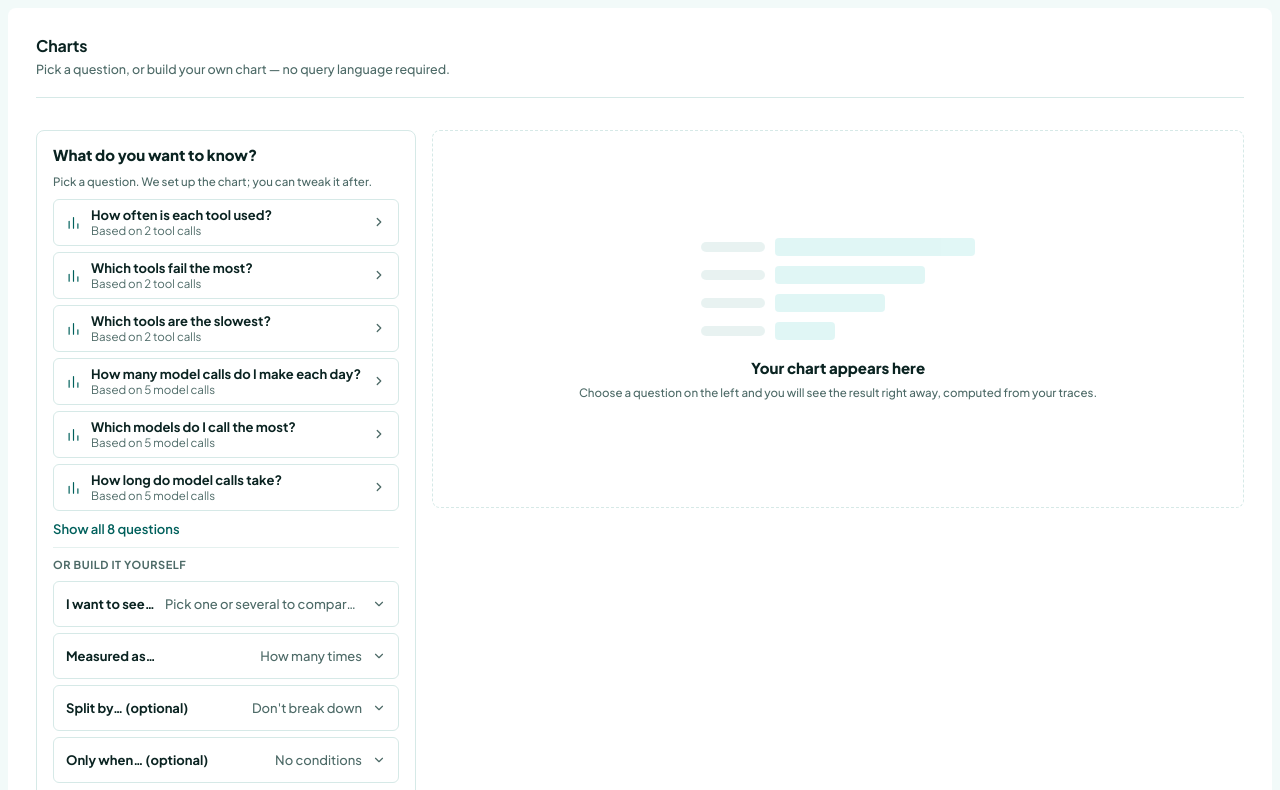
Test: CustomChartsPanel › keeps the builder controls folded and summarises their value until opened
This screenshot has width=1280, height=790.
Click the button with test id "fold-split" at point(127, 708), box 54,686 -> 398,730
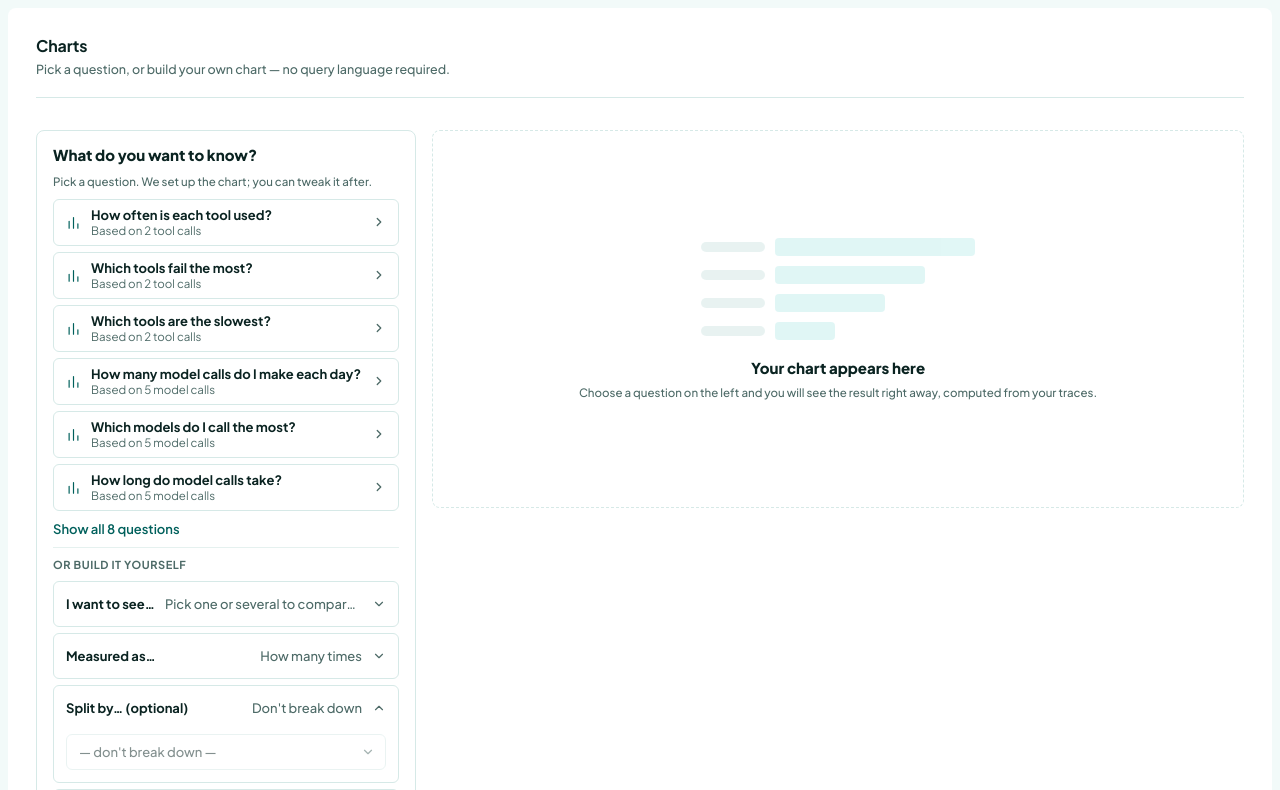
Expected: the button with test id "fold-split" is expanded, 54,686 -> 398,730
